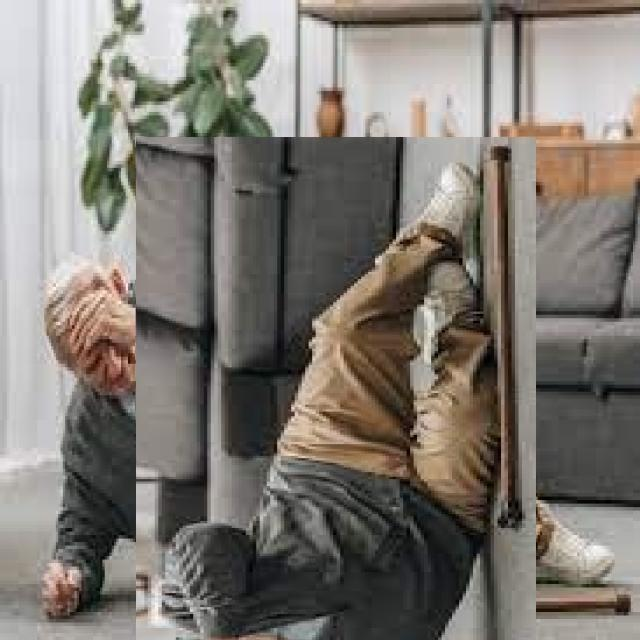Fall: (60, 167, 497, 640)
